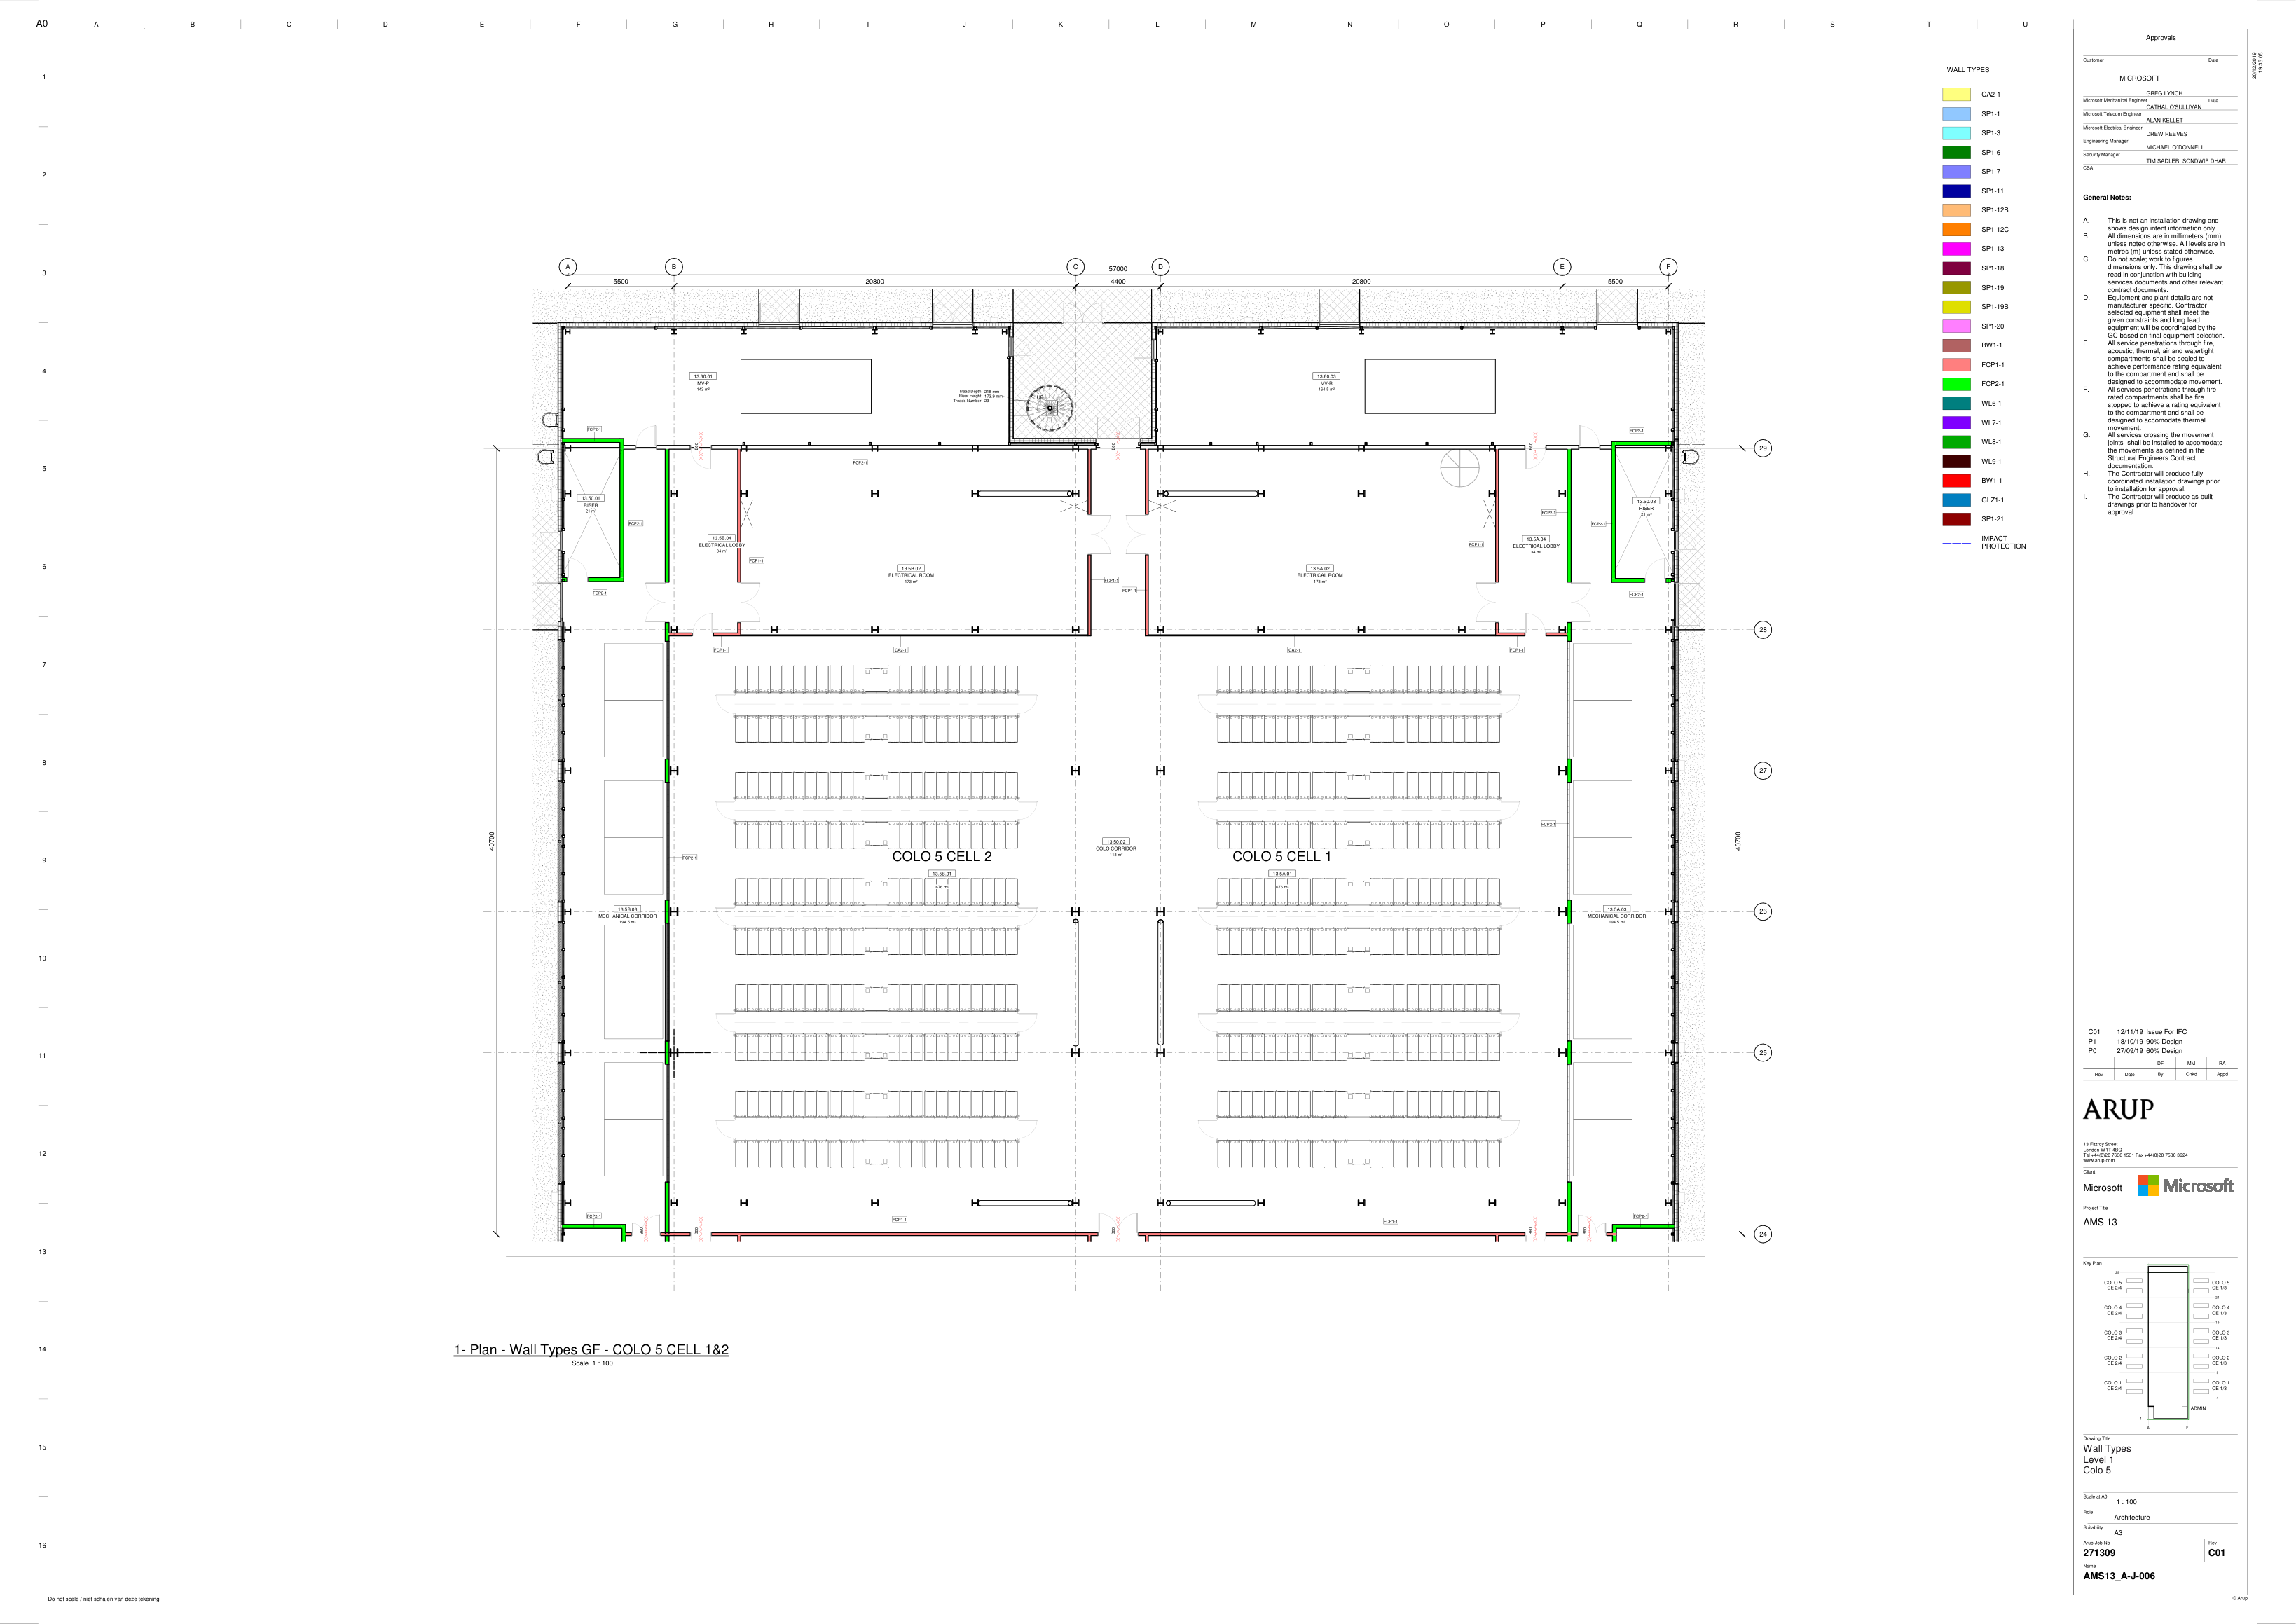Legend: (1937, 65, 2029, 552)
